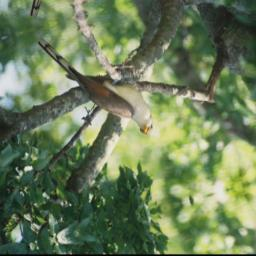Cuckoo: (33, 12, 159, 162)
